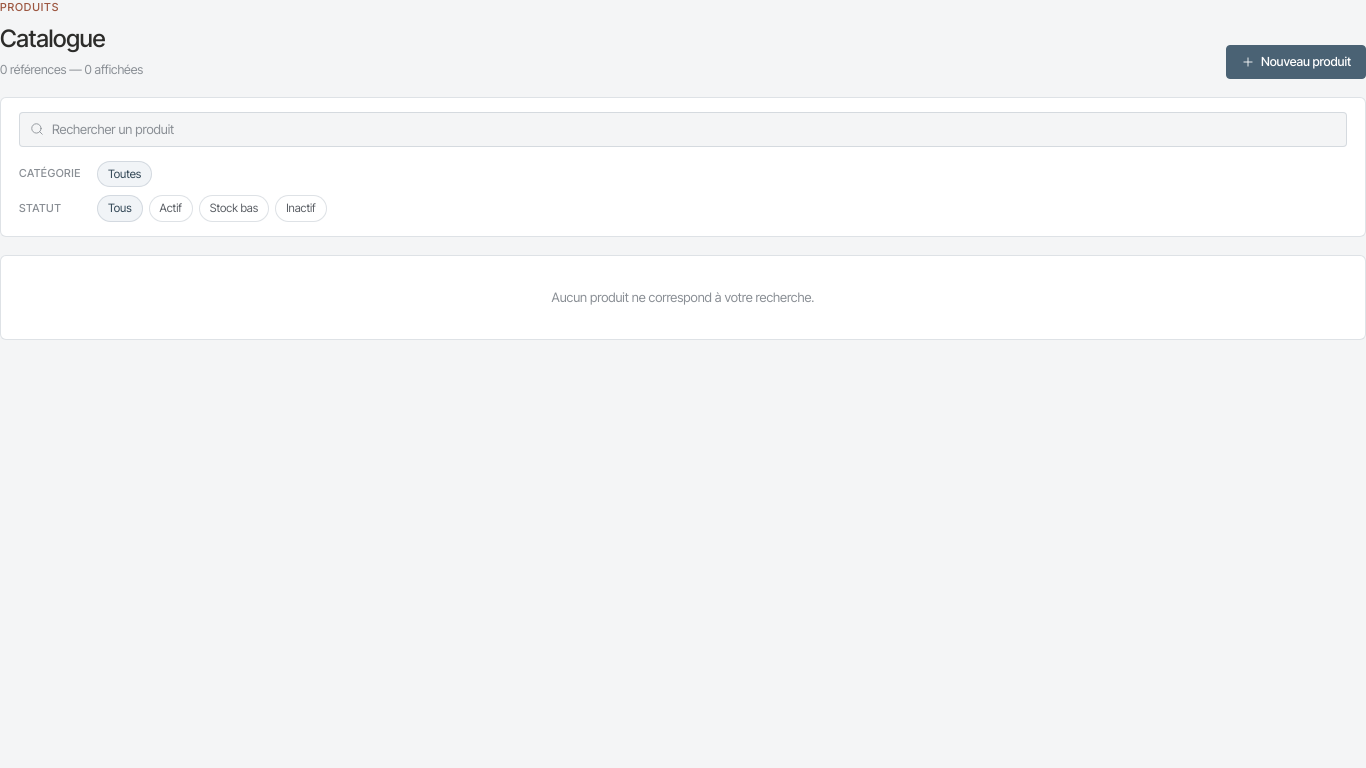
Test case: ErpCatalog — création produit › ouvre la modale au clic sur Nouveau produit
Click the button "Nouveau produit" at point(1296, 62), box top-left (1226, 45), bottom-right (1365, 79)
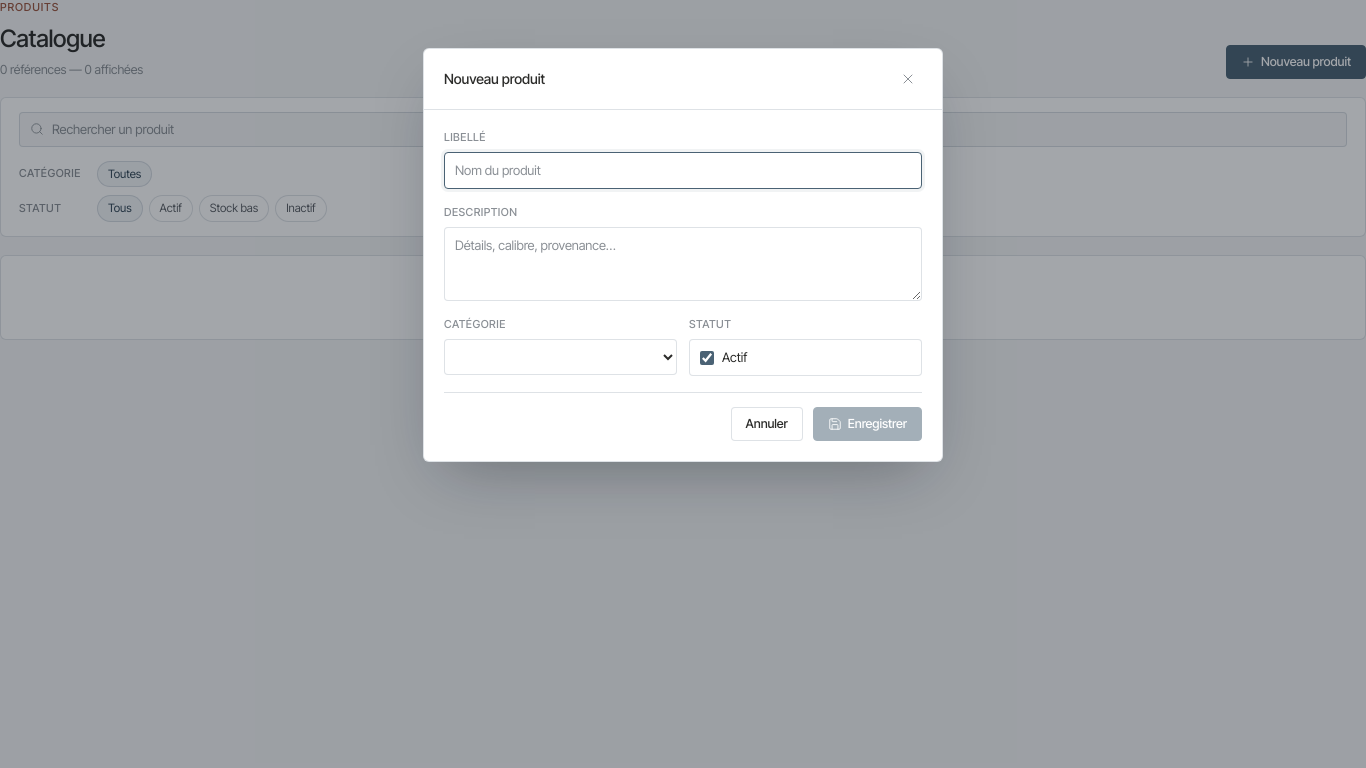
Expected: the element with class "modal-backdrop" is shown
Expected: the text with class "modal-title" reads "Nouveau produit", top-left (444, 70), bottom-right (545, 87)
Expected: the field named "label" is shown, top-left (444, 152), bottom-right (922, 189)
